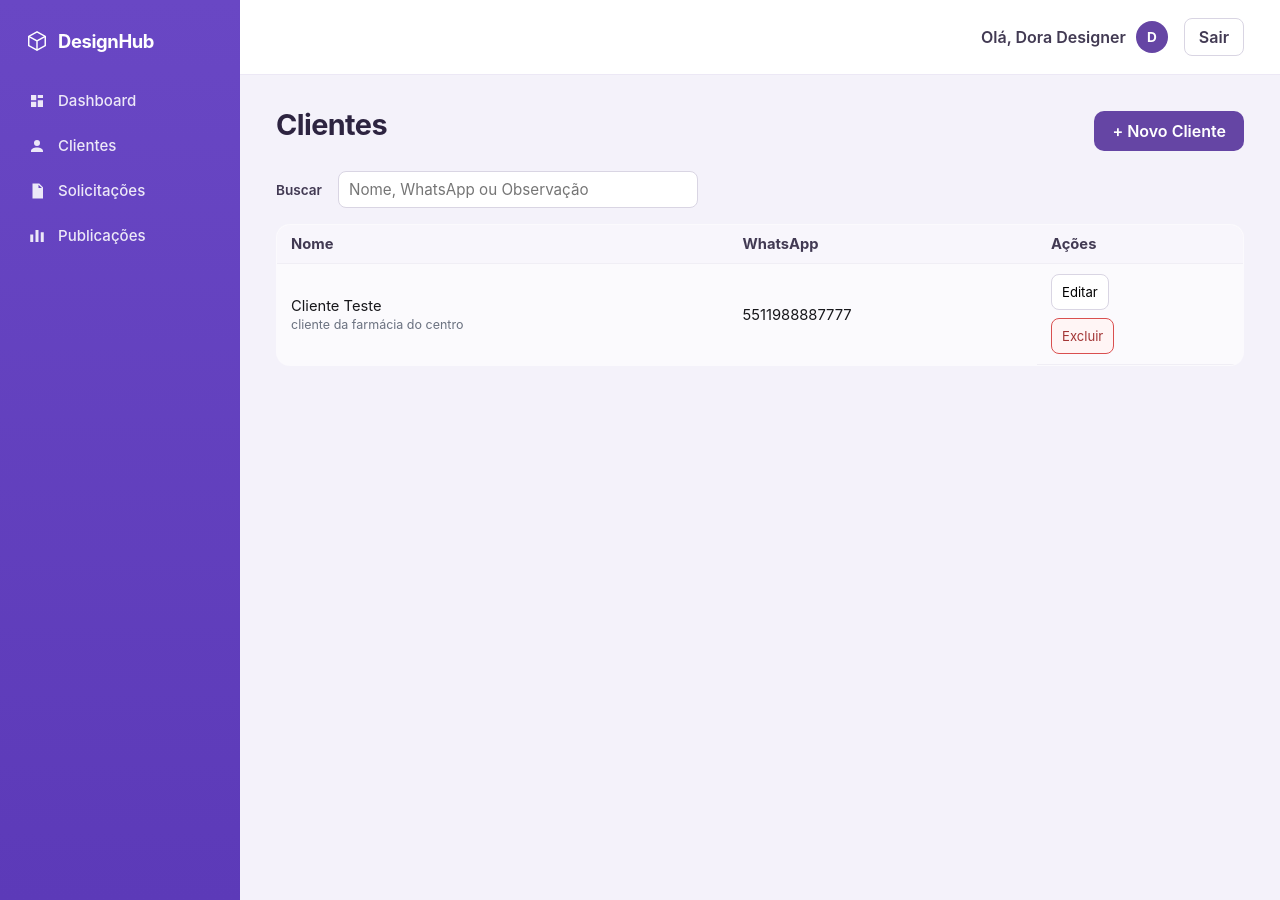
it: ClientesPage (RF003 — CRUD completo) › abre o formulário de cadastro ao clicar em "+ Novo Cliente" e cria o cliente
Expected: the text "Cliente Teste" is shown, x1=291 y1=297 x2=382 y2=315
Click the button "+ Novo Cliente": (1169, 131) x1=1094 y1=111 x2=1244 y2=151
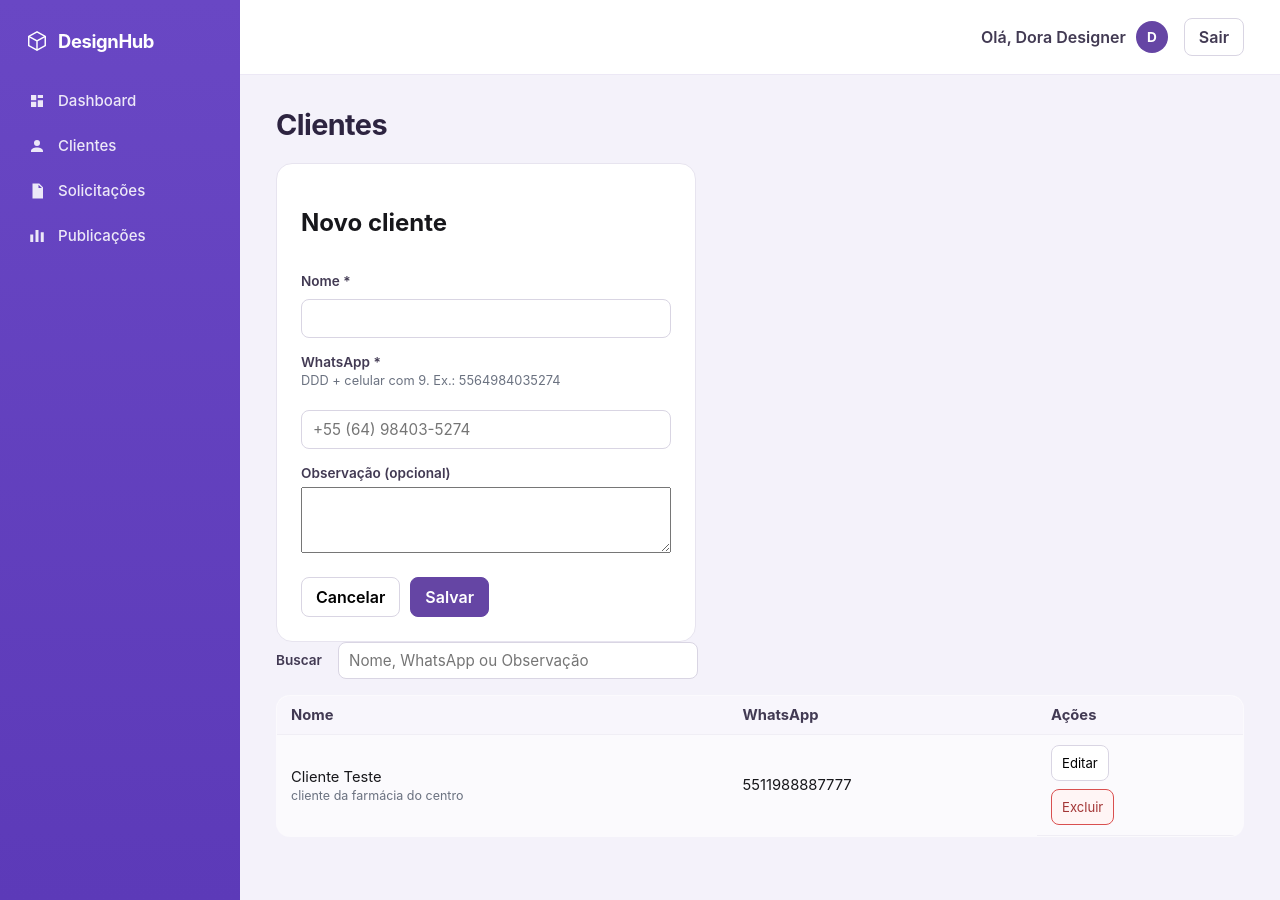
Now the form "Novo cliente" is shown, box x1=276 y1=163 x2=696 y2=642
In the field labelled "Nome *": (486, 318) x1=301 y1=299 x2=671 y2=338, type "Cliente Novo"
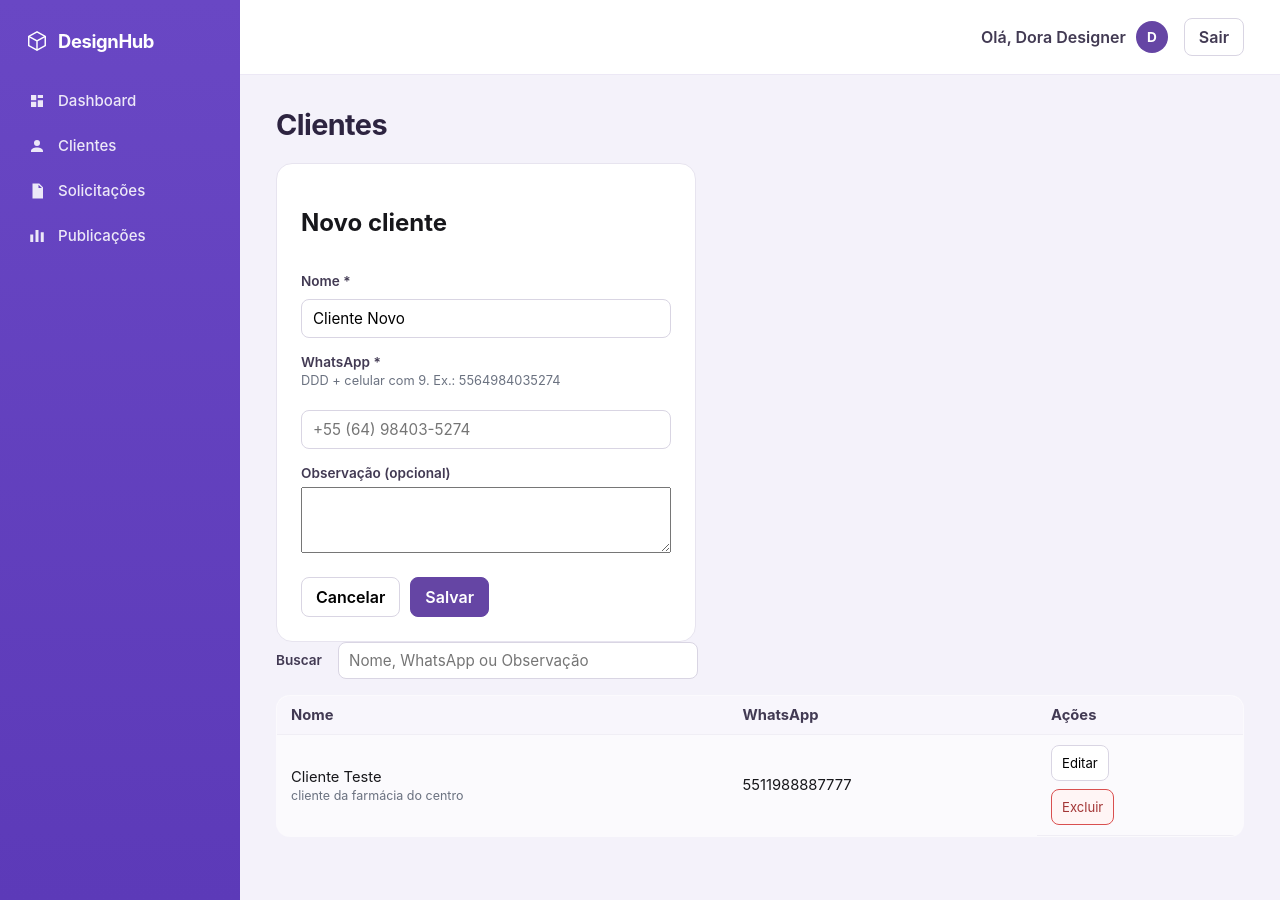
In the field labelled "WhatsApp *": (486, 429) x1=301 y1=410 x2=671 y2=448, type "5511977776666"
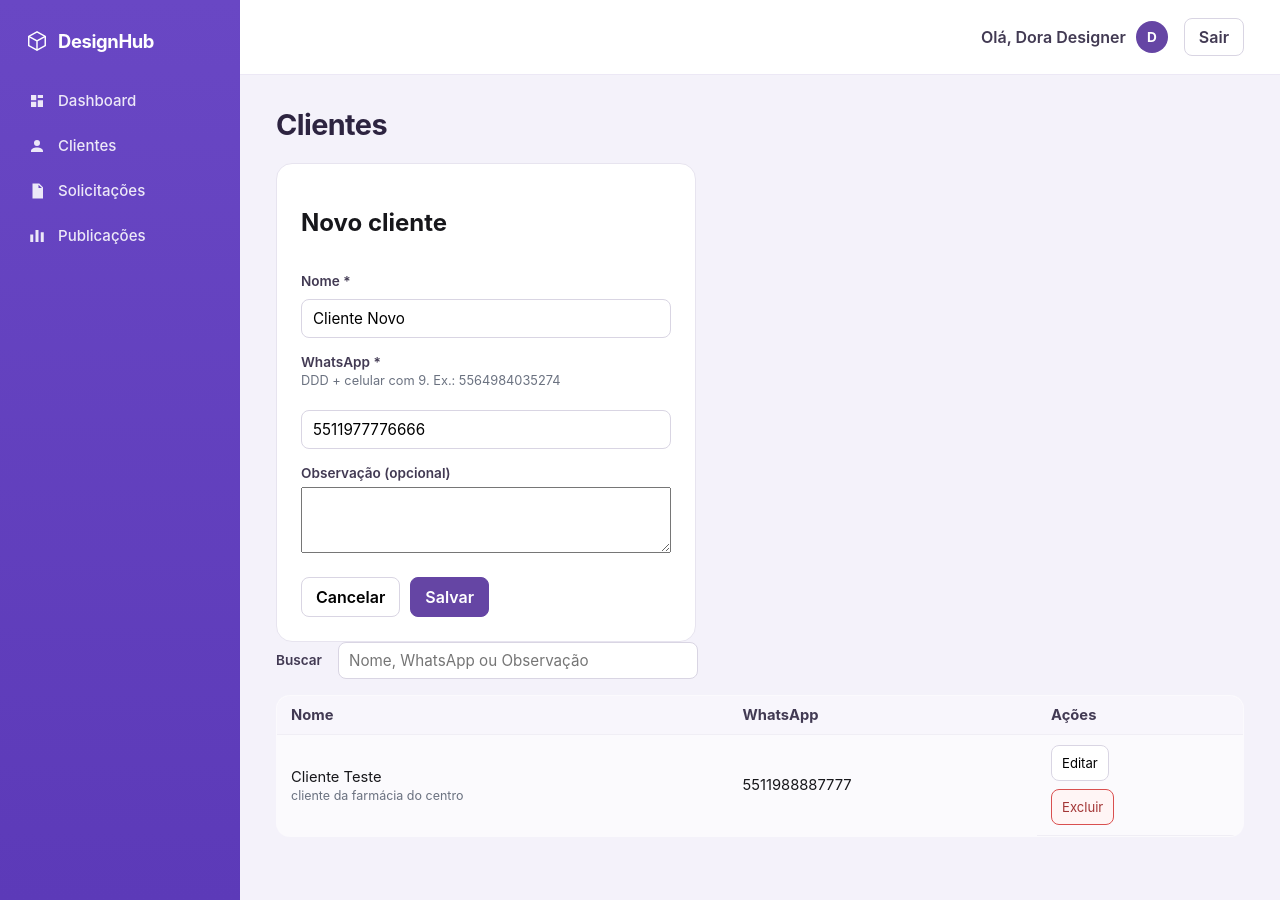
Click the button "Salvar": (450, 596) x1=410 y1=576 x2=489 y2=616
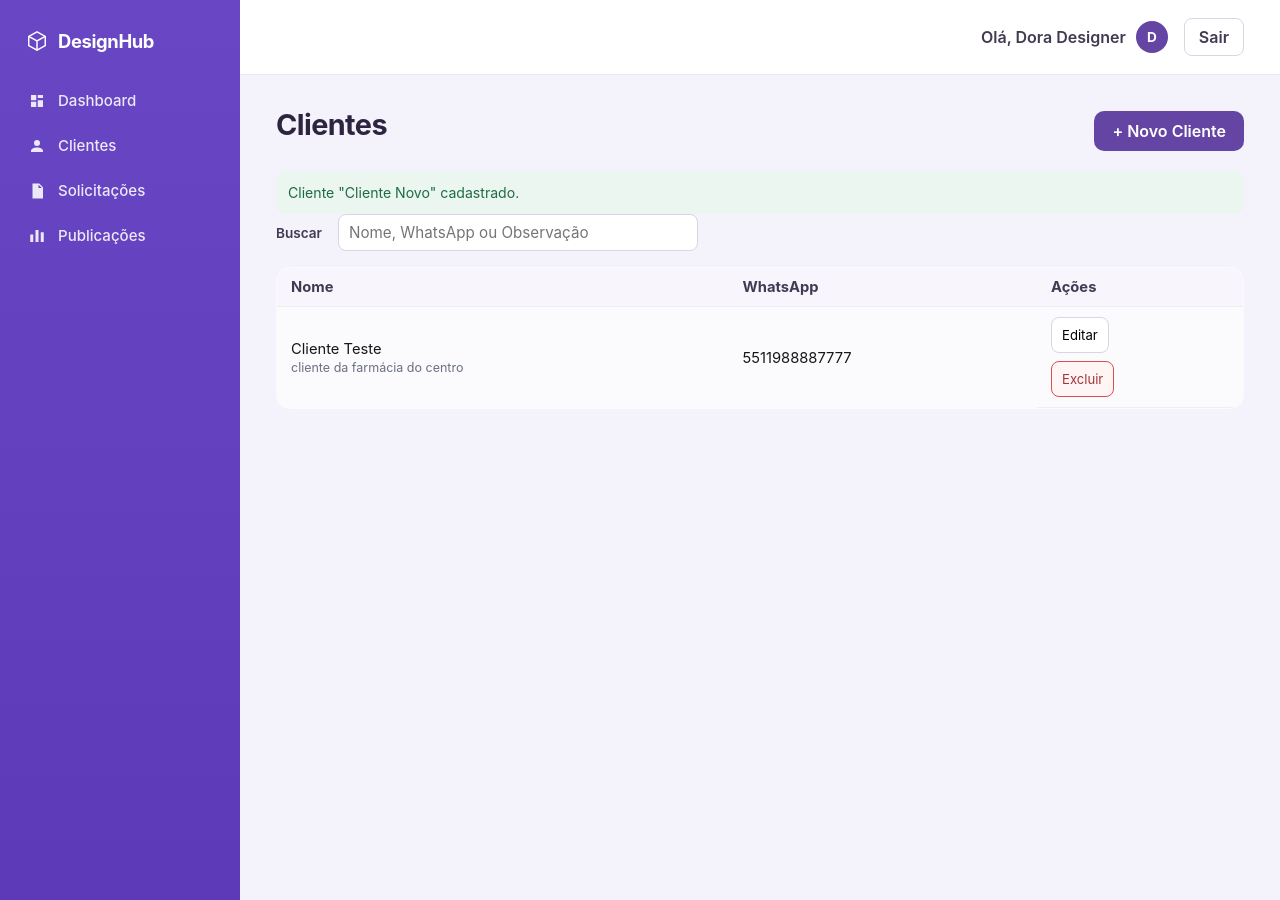
Now the text "Cliente \"Cliente Novo\" cadastrado." is shown, box x1=276 y1=171 x2=1244 y2=214
